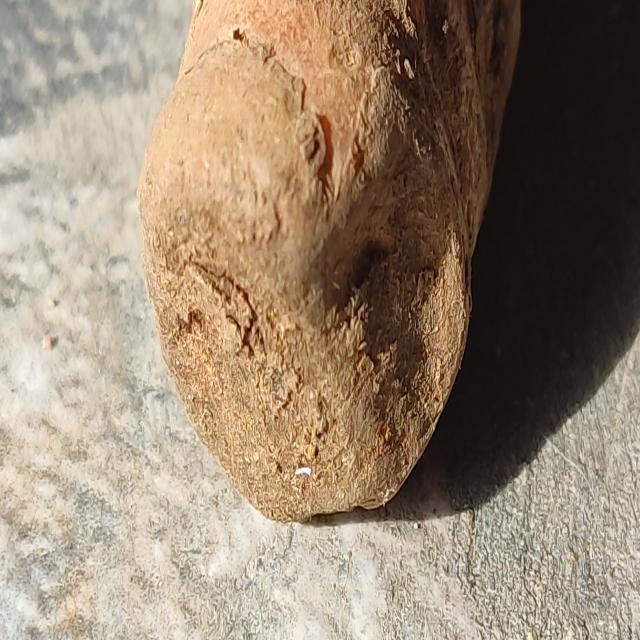ginger: (149, 0, 506, 495)
